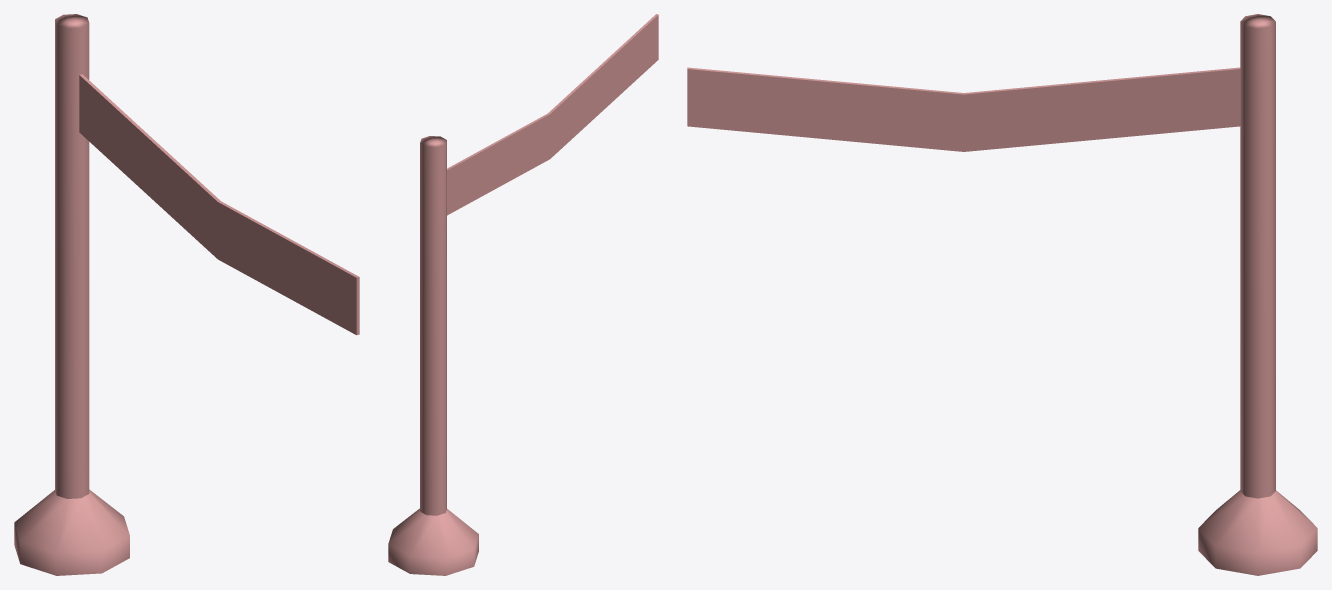
Rendered from Traffic_Pole_A_B_COL.fbx.
3 views of the same model, side by side, from view 1: azimuth 30°, elevation 25°; view 2: azimuth 150°, elevation 25°; view 3: azimuth 270°, elevation 25° (orthographic). The views are drawn at different scales.
Parts seen in each view (by area): view 1: Traffic_Pole_A_B_COL; view 2: Traffic_Pole_A_B_COL; view 3: Traffic_Pole_A_B_COL.
Part boxes in pixels (left/top/right/bottom): Traffic_Pole_A_B_COL: left=14, top=14, right=359, bottom=575; Traffic_Pole_A_B_COL: left=388, top=14, right=658, bottom=575; Traffic_Pole_A_B_COL: left=687, top=14, right=1317, bottom=575.
Size of the model in its own units: 20.48 by 100 by 108.
